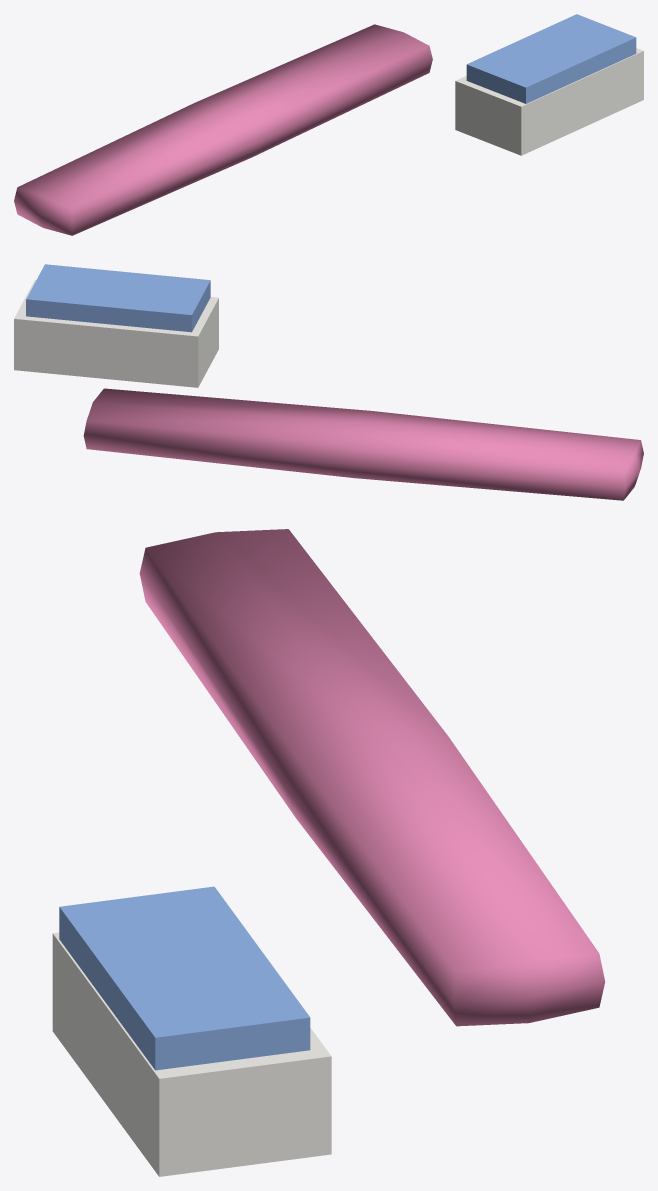
The model's file is toothbrush.glb.
The picture shows the model from 3 angles, top to bottom: view 1: azimuth 30°, elevation 25°; view 2: azimuth 150°, elevation 25°; view 3: azimuth 270°, elevation 25°; orthographic projection. The views are drawn at different scales.
Parts seen in each view (by area): view 1: root; view 2: root; view 3: root.
Boxes of the visible parts, x1,y1,x2,y2 form: root: (14,14,643,235); root: (14,264,643,500); root: (52,529,605,1176).
Bounding box in the file's own units: 0.3822 × 0.04 × 0.1532.
